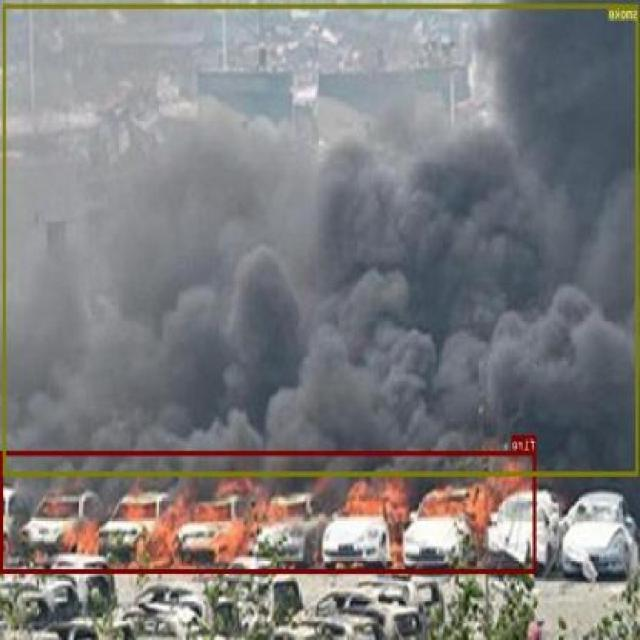Fire: (9, 446, 542, 574)
Smoke: (7, 0, 640, 497)
